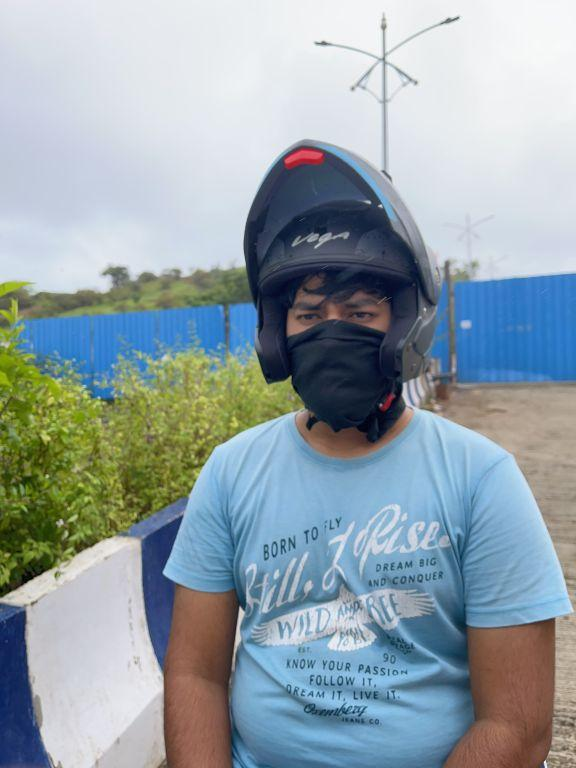helmet: (234, 124, 448, 411)
